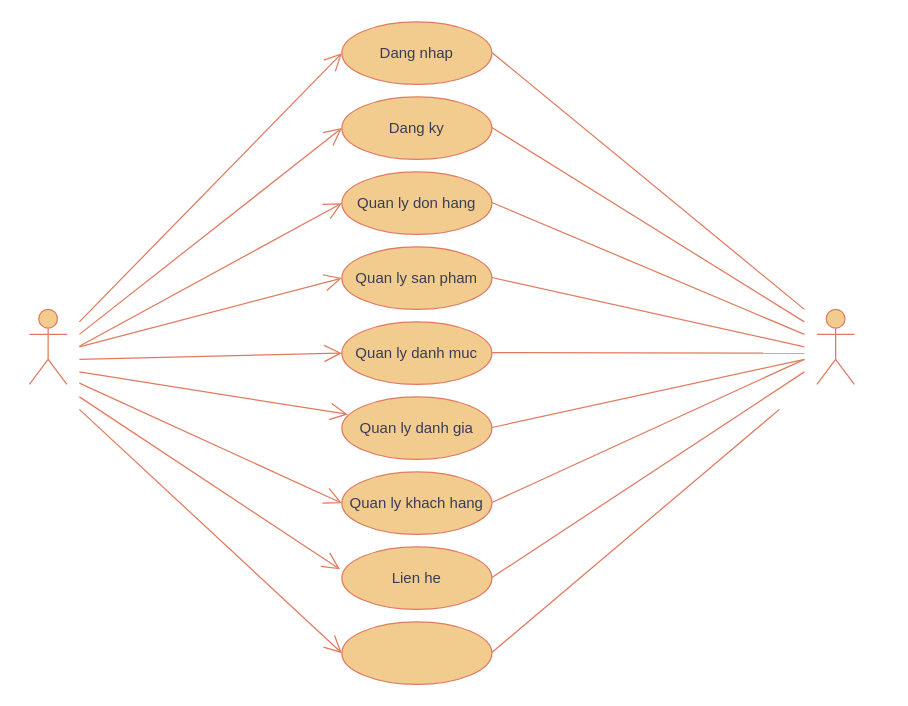
This 908x706 diagram has some shape labels left out. The box of each missing label's shape, as (x1, y1, x2, y2) in pixels:
HeThongCSDL: (816, 308, 854, 384)
QuanTri: (28, 308, 67, 384)
Thong ke san pham: (341, 621, 492, 684)
